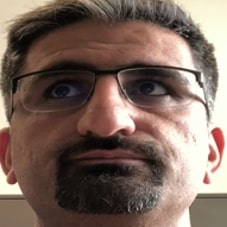awake: (32, 51, 192, 184)
